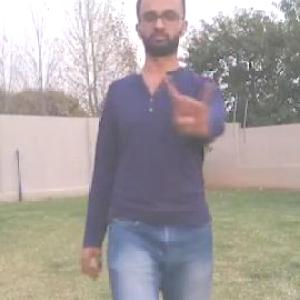takeoff-hand: (162, 65, 220, 131)
